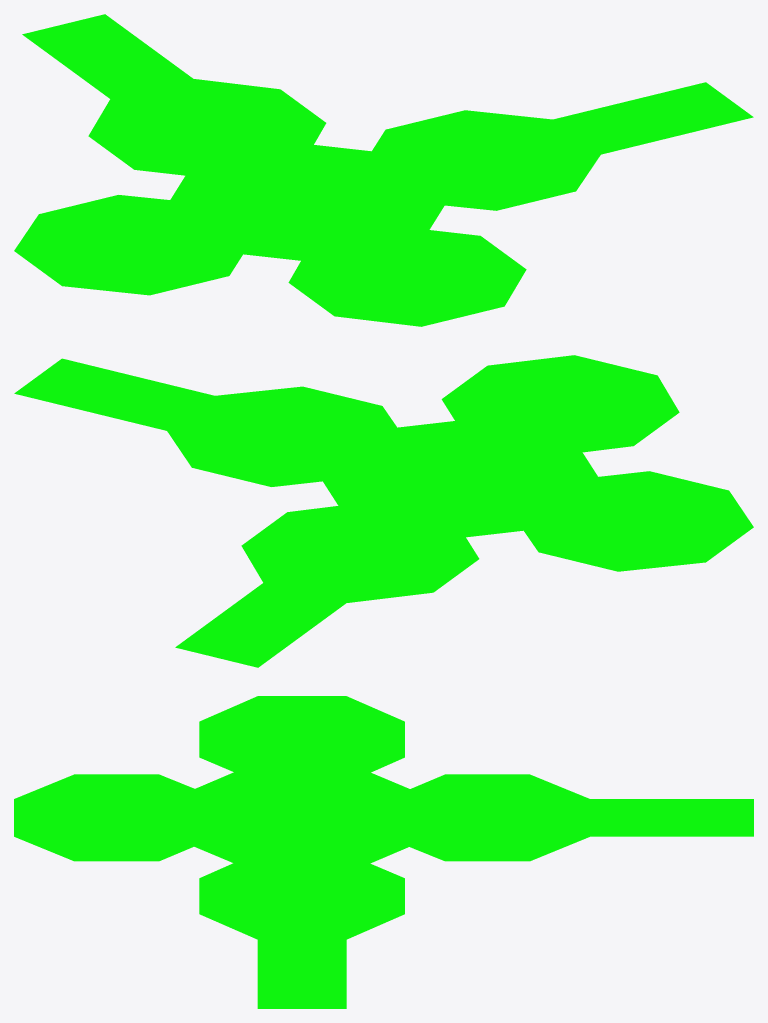
The model's file is s07b_lb1-floor.glb.
3 views of the same model, one above another, from view 1: azimuth 30°, elevation 25°; view 2: azimuth 150°, elevation 25°; view 3: azimuth 270°, elevation 25° (orthographic). The views are drawn at different scales.
Visible parts, largest first — view 1: collision_floor-colonly; view 2: collision_floor-colonly; view 3: collision_floor-colonly.
Boxes of the visible parts, x1,y1,x2,y2 form: collision_floor-colonly: (14,14,753,326); collision_floor-colonly: (14,355,753,667); collision_floor-colonly: (14,696,753,1008).
Size of the model in its own units: 49.89 by 0 by 49.89.
